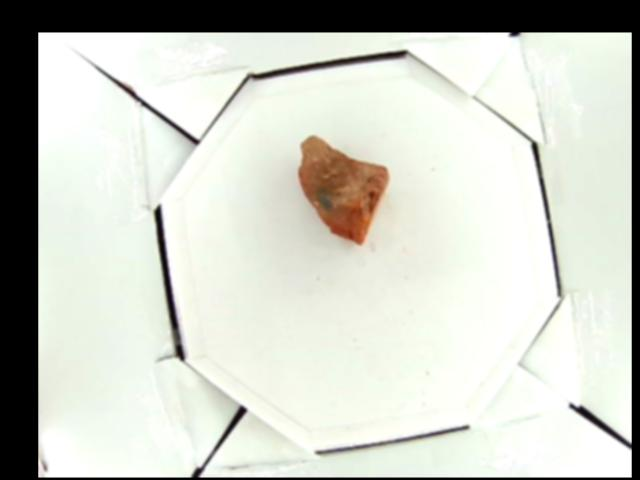Brisk: (298, 134, 388, 242)
